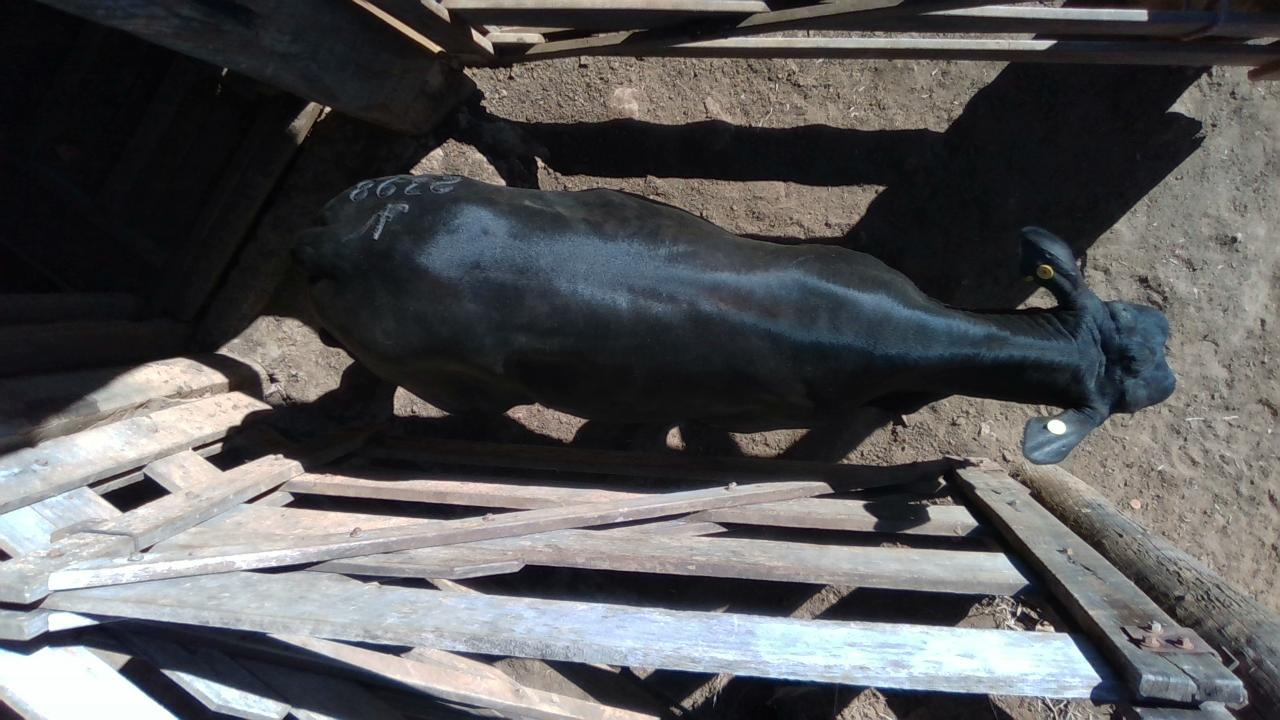cattle: (287, 170, 1177, 466)
